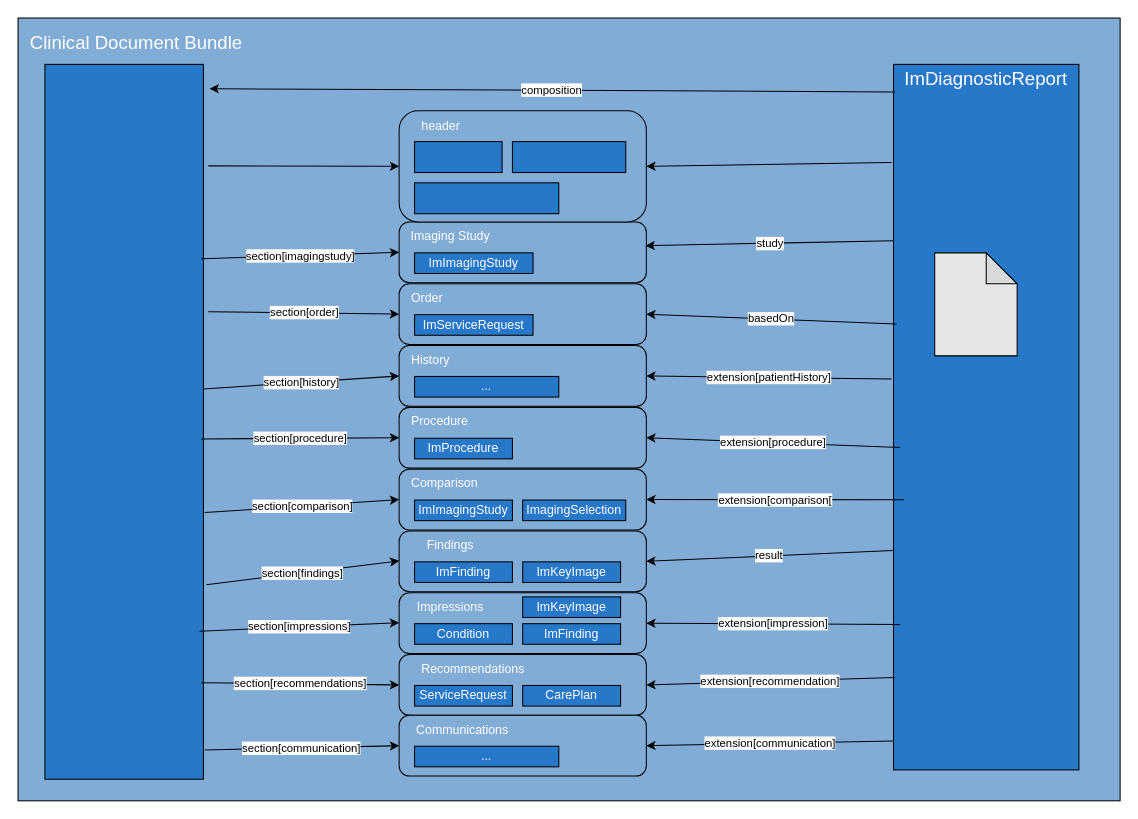
Some shapes in this 1138 by 819 pixel diagram are drawn without their labels. The centre of each missing label's shape, as x and y in pixels:
"EuOrganization" goes at (x=568, y=157).
"EuPractitioner(Role)" goes at (x=486, y=198).
"ImComposition" goes at (x=123, y=421).
"ImPatient" goes at (x=458, y=157).
"Rendered Report" goes at (x=975, y=304).
